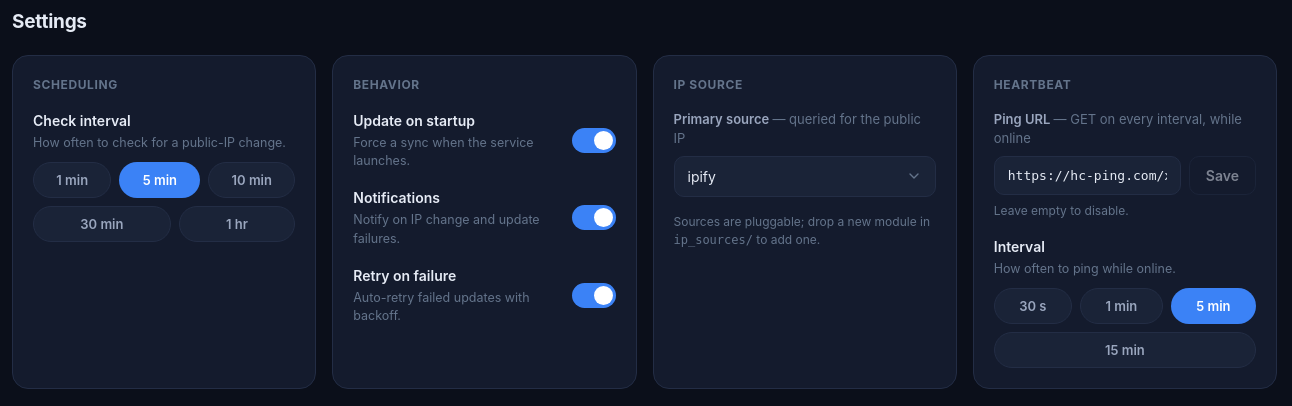
Test case: SettingsView › resets the draft when a save normalises back to the already-stored URL
The image size is (1292, 406).
Replace the text in the field labelled "Ping URL — GET on every interval, while online" with "https://hc-ping.com:443/x" at (1087, 175), box top-left (994, 156), bottom-right (1181, 194)
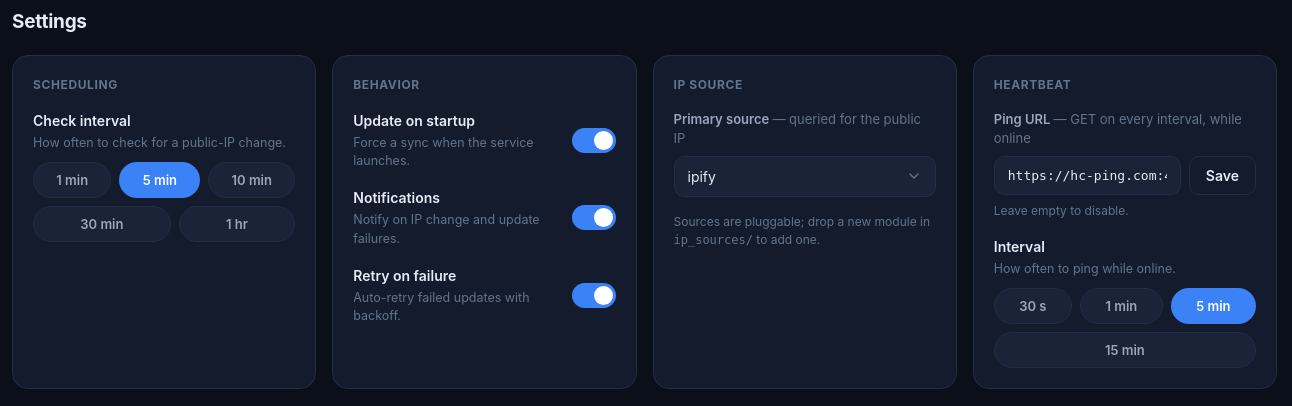
Result: the button "Save" is enabled
Click the button "Save" at (1222, 175), box top-left (1189, 156), bottom-right (1256, 194)
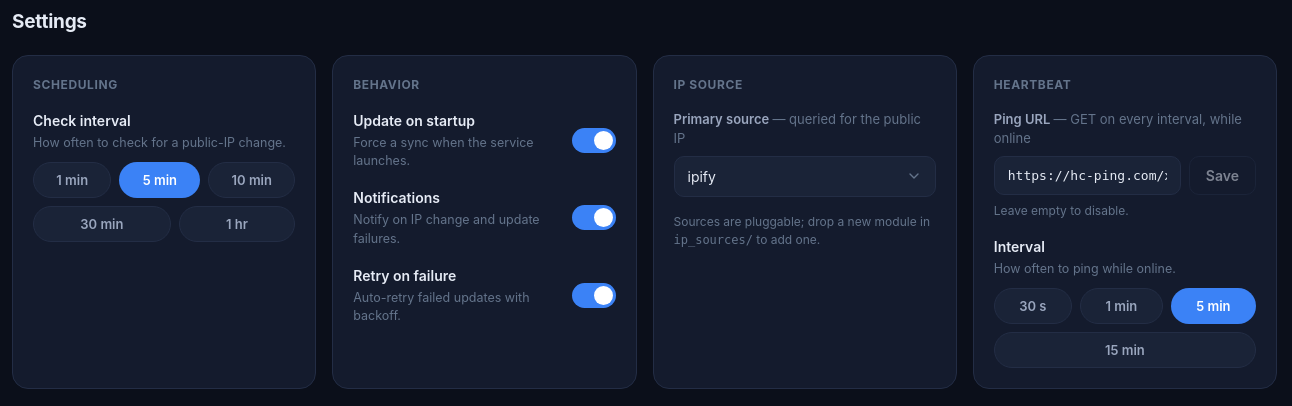
Result: the field labelled "Ping URL — GET on every interval, while online" holds "https://hc-ping.com/x" at top-left (994, 156), bottom-right (1181, 194)
Result: the button "Save" is disabled at top-left (1189, 156), bottom-right (1256, 194)
